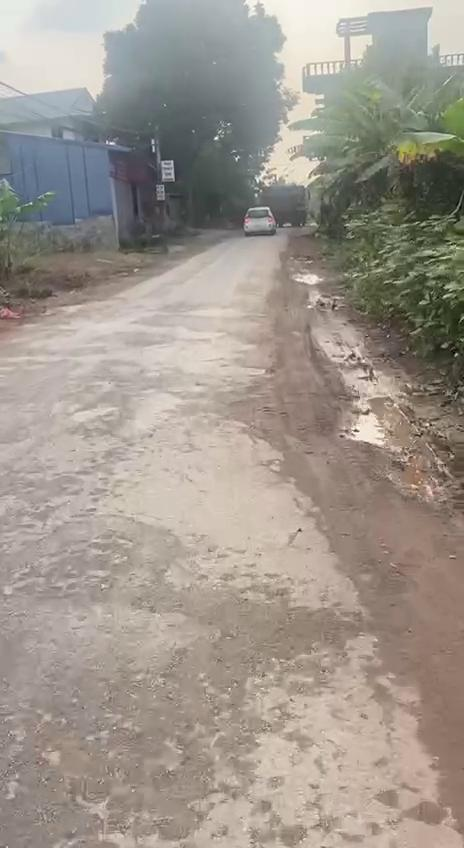pothole: (336, 380, 438, 506)
